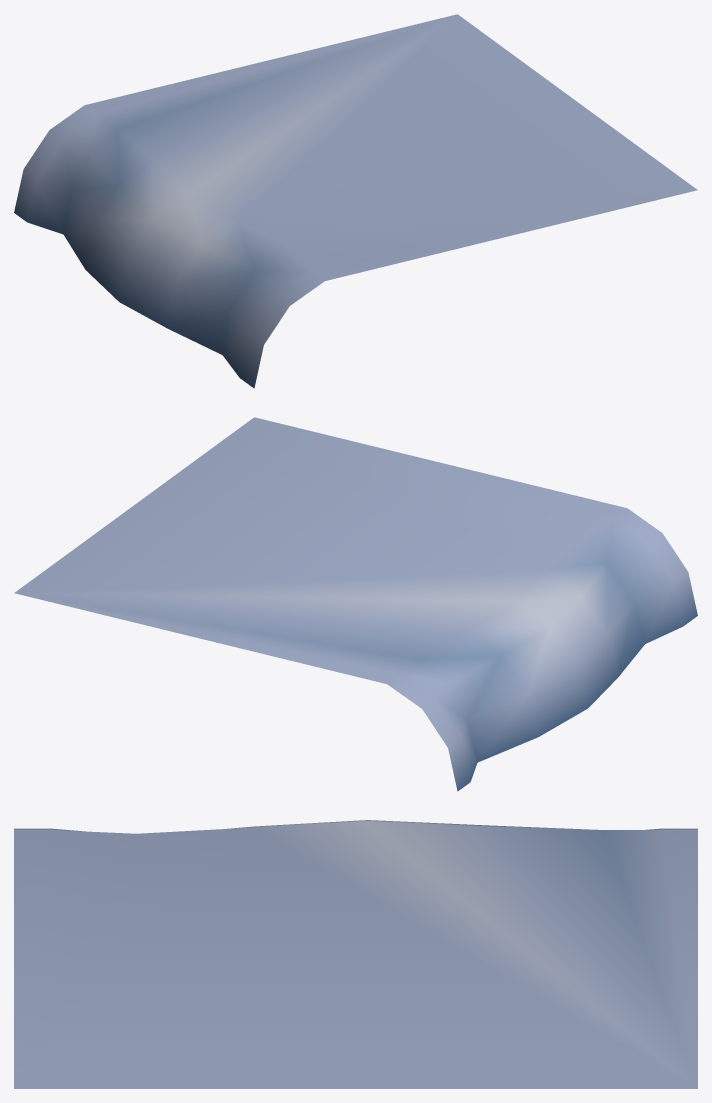
File: Surface_RoadUp01.fbx
3 renders of one model, top to bottom at view 1: azimuth 30°, elevation 25°; view 2: azimuth 150°, elevation 25°; view 3: azimuth 270°, elevation 25°, orthographic. The views are drawn at different scales.
Parts seen in each view (by area): view 1: Surface_RoadUp01; view 2: Surface_RoadUp01; view 3: Surface_RoadUp01.
Boxes of the visible parts, x1,y1,x2,y2 form: Surface_RoadUp01: [14, 14, 697, 388]; Surface_RoadUp01: [14, 417, 697, 791]; Surface_RoadUp01: [14, 820, 697, 1088].
Size of the model in its own units: 2192 by 415 by 2000.
